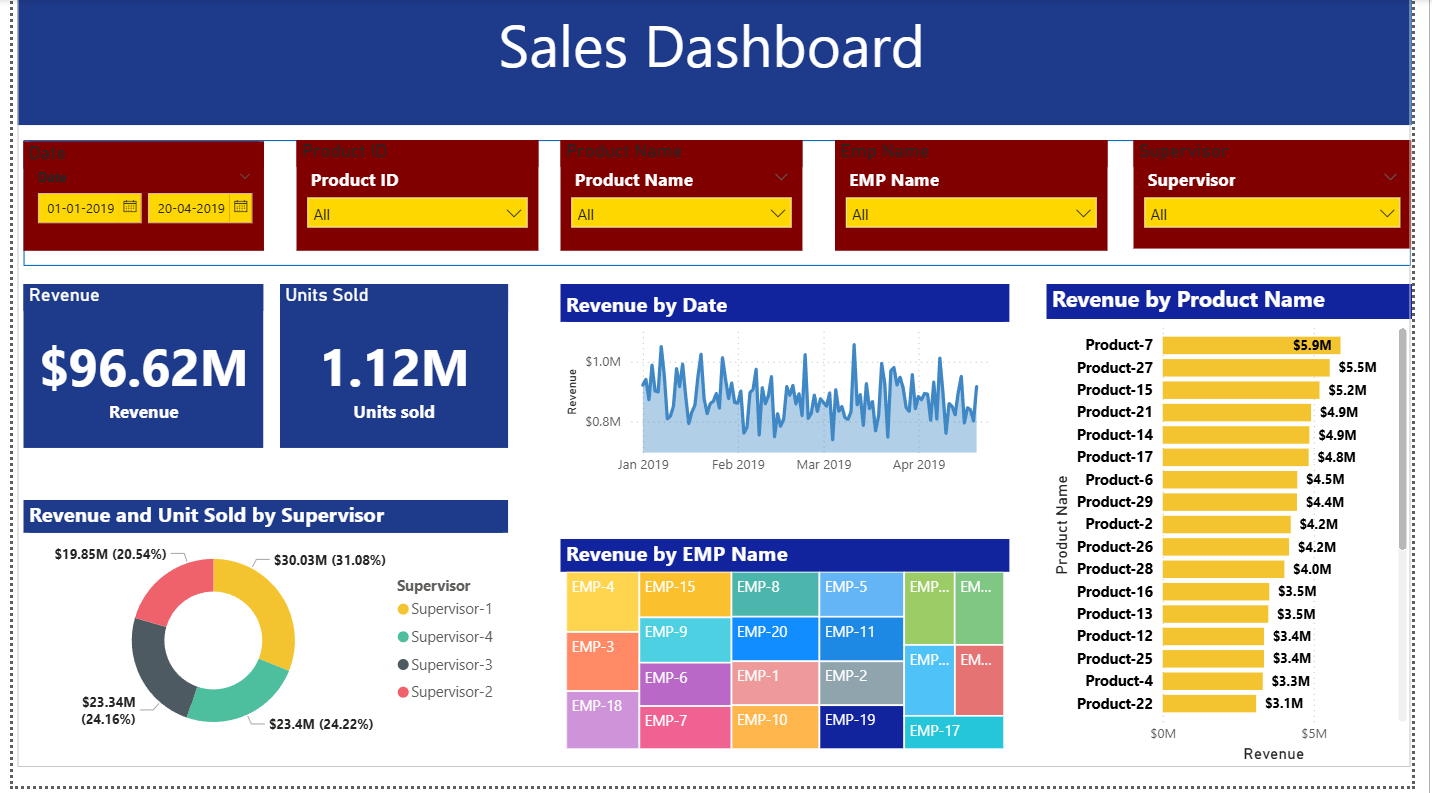

Layout of this report page (visuals, bound fields, positions):
{"tool":"powerbi","page":{"name":"Sales","canvas":[1280,720],"ordinal":0},"visuals":[{"type":"shape","box":[9.4,0,1269.9,115.3],"z":1000,"group":"g1"},{"type":"shape","box":[9.5,129.5,1269.5,115.3],"z":6500},{"type":"treemap","fields":{"Group":["Emp Master.EMP Name"],"Values":["Sales Data.Revenue"]},"box":[501.2,493.6,410.3,196.8],"z":12000},{"type":"lineChart","title":"Revenue by Date","fields":{"Y":["Sales Data.Revenue"],"Category":["Sales Data.Date.Variation.Date Hierarchy.Year","Sales Data.Date.Variation.Date Hierarchy.Quarter","Sales Data.Date.Variation.Date Hierarchy.Month","Sales Data.Date.Variation.Date Hierarchy.Day"]},"box":[501.2,260.4,410.3,183.2],"z":12562},{"type":"barChart","fields":{"Category":["Product Master.Product Name"],"Y":["Sales Data.Revenue"]},"box":[944.9,260.4,334.6,442.1],"z":13000,"group":"g1"},{"type":"donutChart","title":"Revenue and Unit Sold by Supervisor","fields":{"Category":["Emp Master.Supervisor"],"Y":["Sales Data.Revenue"]},"box":[9.1,458.8,443.7,231.7],"z":13125},{"type":"card","title":"Revenue","fields":{"Values":["Sales Data.Total Revenue"]},"box":[9.5,260.5,219.5,150],"z":13500},{"type":"card","title":"Units Sold","fields":{"Values":["Sales Data.Units Sold"]},"box":[244.7,260.5,208.4,150],"z":13546},{"type":"slicer","title":"Supervisor","fields":{"Values":["Emp Master.Supervisor"]},"box":[1024.8,129.5,254.2,99.5],"z":13593},{"type":"slicer","title":"Emp Name","fields":{"Values":["Emp Master.EMP Name"]},"box":[751.6,129.5,249.5,101.1],"z":13609},{"type":"slicer","title":"Product Name","fields":{"Values":["Product Master.Product Name"]},"box":[500.5,129.5,221.1,101.1],"z":13625},{"type":"slicer","title":"Product ID","fields":{"Values":["Product Master.Product ID"]},"box":[259,129.5,221.1,101.1],"z":13750},{"type":"slicer","title":"Date","fields":{"Values":["Sales Data.Date"]},"box":[10,130,220,100],"z":14000},{"type":"textbox","box":[4,0,1274.2,115.3],"z":14500,"group":"g1"},{"type":"group","id":"g1","title":"Group 1","box":[4,0,1275.5,702.6],"z":14501}]}

Visuals, with their boxes in screenshot pixels (x1, y1, x2, y2), scaled from the page's 1280x720 canvas onto the 1432x793 screenshot:
shape: 11, 0, 1431, 127
shape: 11, 143, 1431, 270
treemap - Emp Master.EMP Name x Sales Data.Revenue: 561, 544, 1020, 760
"Revenue by Date" lineChart: 561, 287, 1020, 489
barChart - Product Master.Product Name x Sales Data.Revenue: 1057, 287, 1431, 774
"Revenue and Unit Sold by Supervisor" donutChart: 10, 505, 507, 761
"Revenue" card: 11, 287, 256, 452
"Units Sold" card: 274, 287, 507, 452
"Supervisor" slicer: 1146, 143, 1431, 252
"Emp Name" slicer: 841, 143, 1120, 254
"Product Name" slicer: 560, 143, 807, 254
"Product ID" slicer: 290, 143, 537, 254
"Date" slicer: 11, 143, 257, 253
textbox: 4, 0, 1430, 127
"Group 1" group: 4, 0, 1431, 774
